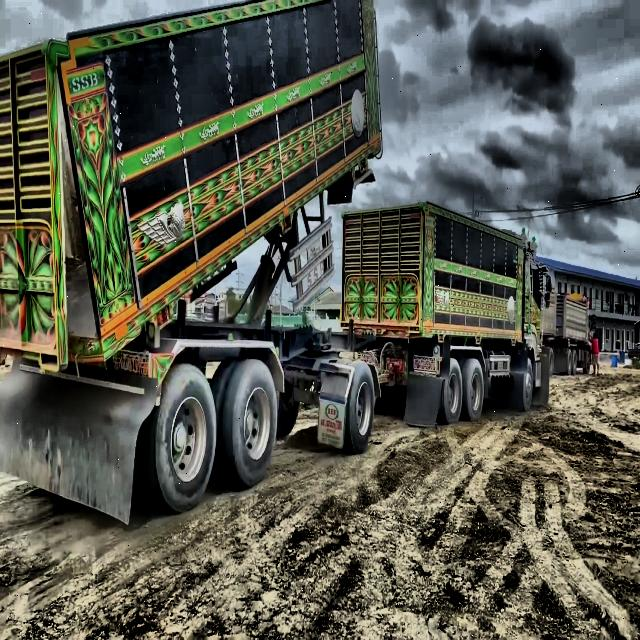trailer: (0, 4, 544, 512), (494, 284, 594, 378)
